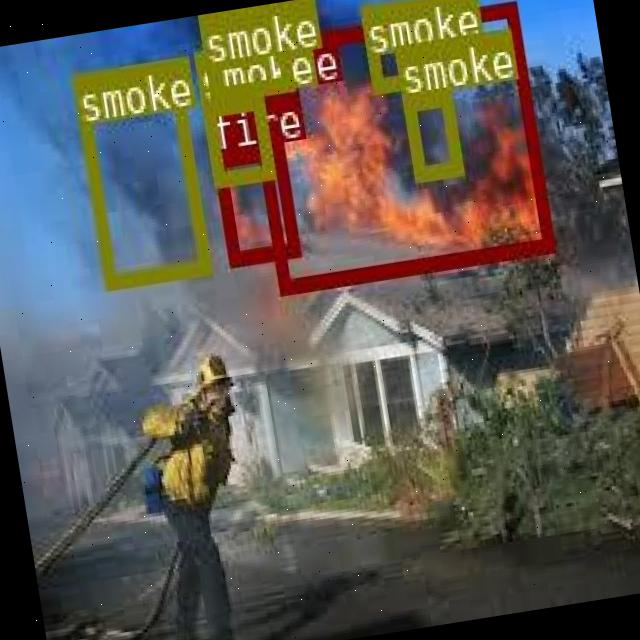fire: (241, 2, 552, 291), (210, 142, 298, 264)
smoke: (71, 55, 210, 287), (198, 2, 294, 102), (359, 0, 433, 91), (198, 94, 272, 184), (400, 88, 462, 181)
